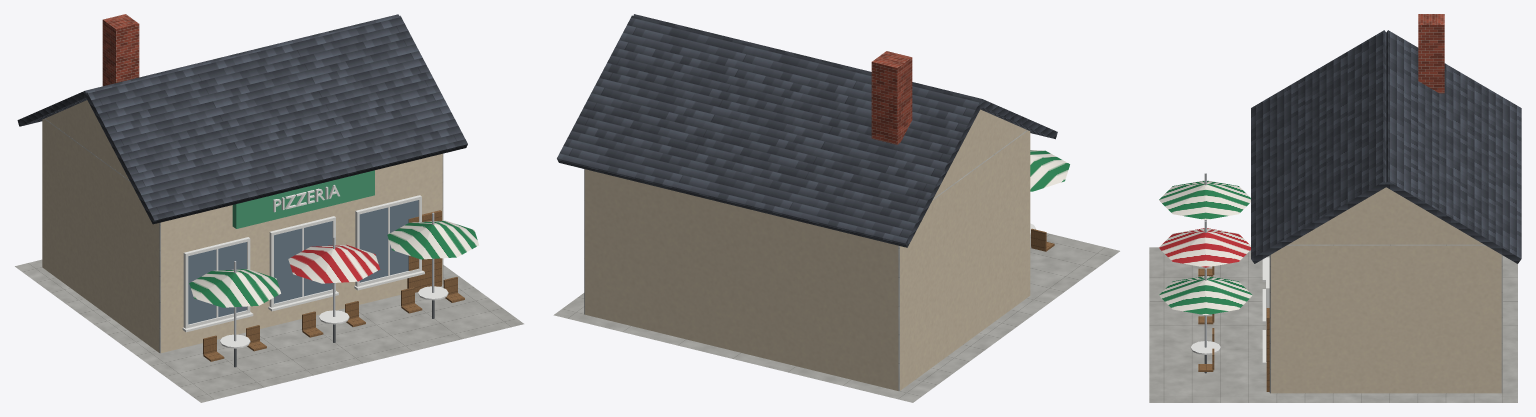
The model's file is restaurant_1.gltf.
The picture shows the model from 3 angles, left to right: view 1: azimuth 30°, elevation 25°; view 2: azimuth 150°, elevation 25°; view 3: azimuth 270°, elevation 25°; orthographic projection. The views are drawn at different scales.
Parts seen in each view (by area): view 1: restaurant_1; view 2: restaurant_1; view 3: restaurant_1.
Part boxes in pixels (<box>): restaurant_1: <box>15,14,523,402</box>; restaurant_1: <box>553,14,1119,402</box>; restaurant_1: <box>1149,14,1521,402</box>.
Bounding box in the file's own units: 1.96 × 1.52 × 1.98.
13 materials, 7 textured.
